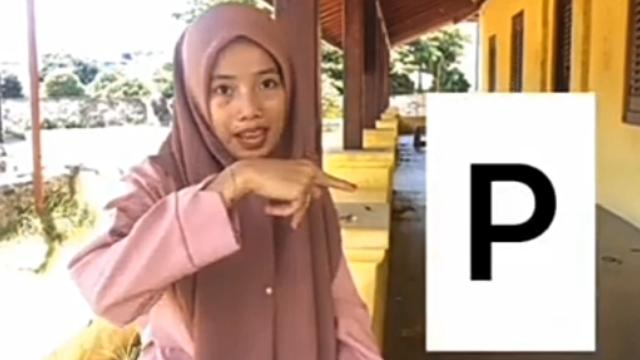P: (242, 152, 358, 230)
